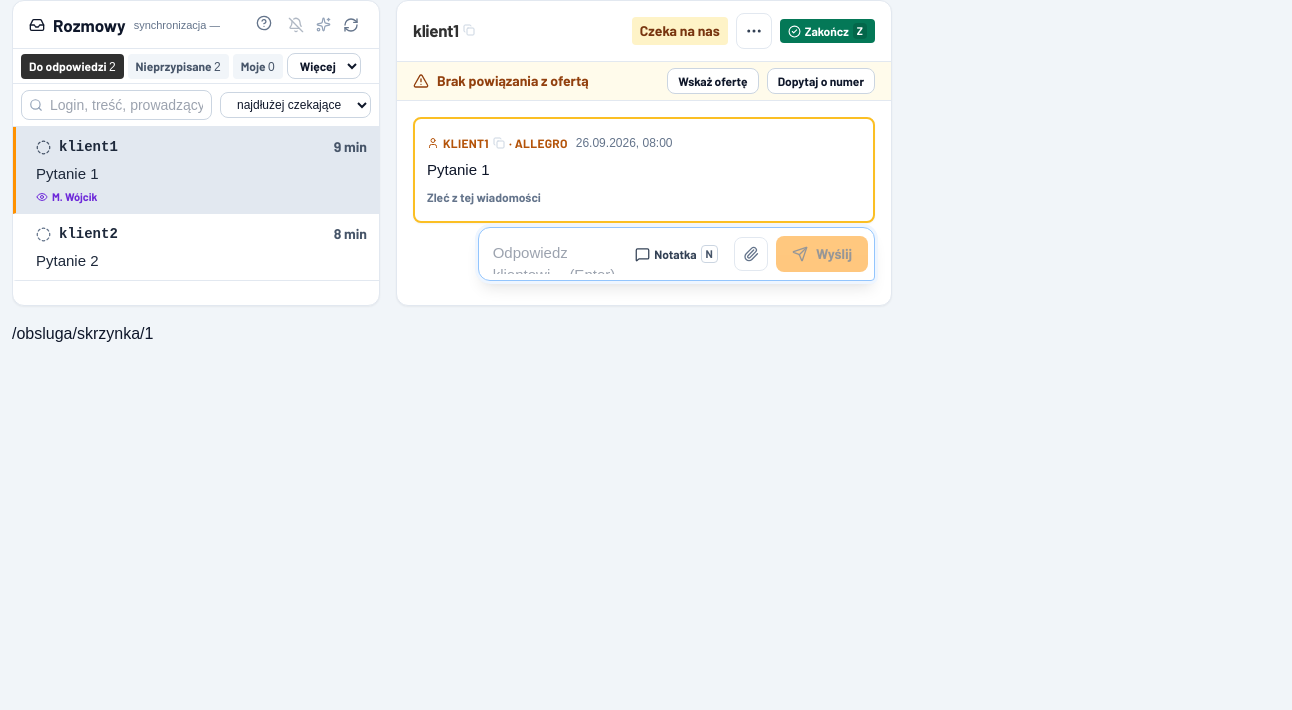
it: EKRAN SKRZYNKI: pętla pracy › „Poproś o przekazanie” pisze do notatki, nie do odpowiedzi klientowi
The image size is (1292, 710).
In the text box named "Szkic odpowiedzi": (556, 254) [493, 234, 619, 274], type "Moja odpowiedź"
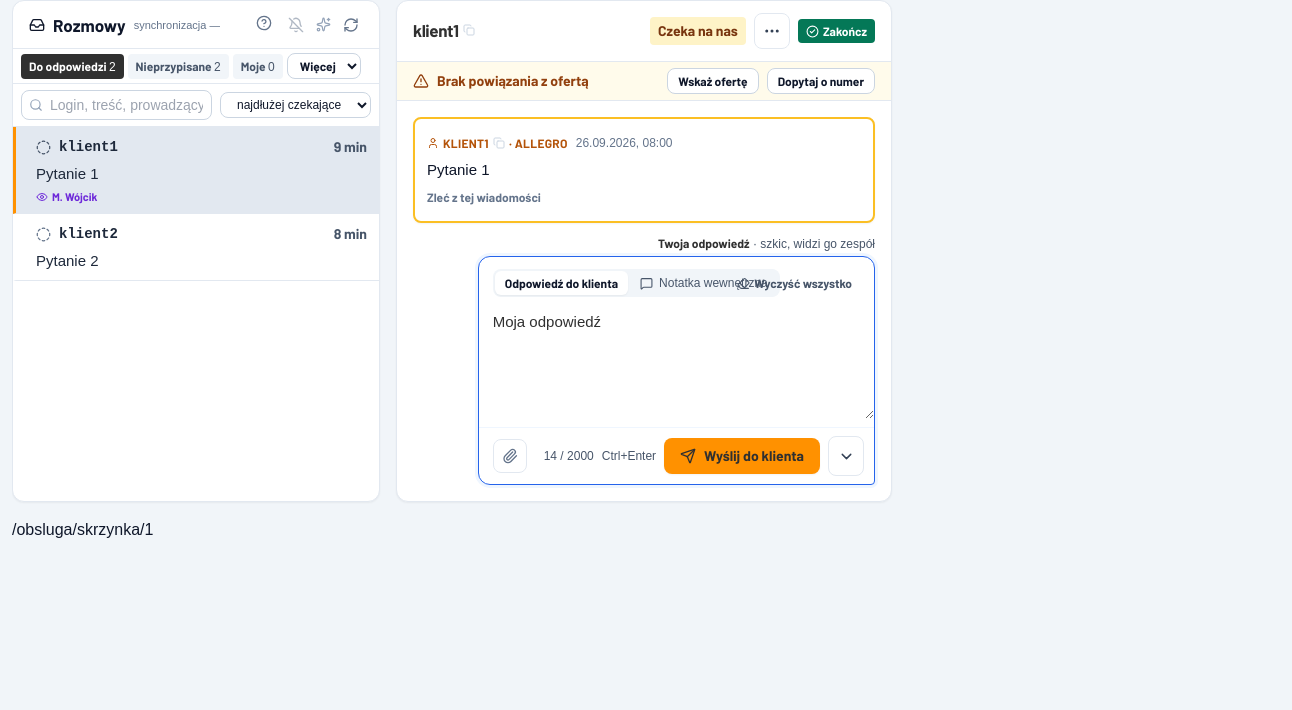
Click the button "Wyślij do klienta": (742, 456) [664, 438, 820, 474]
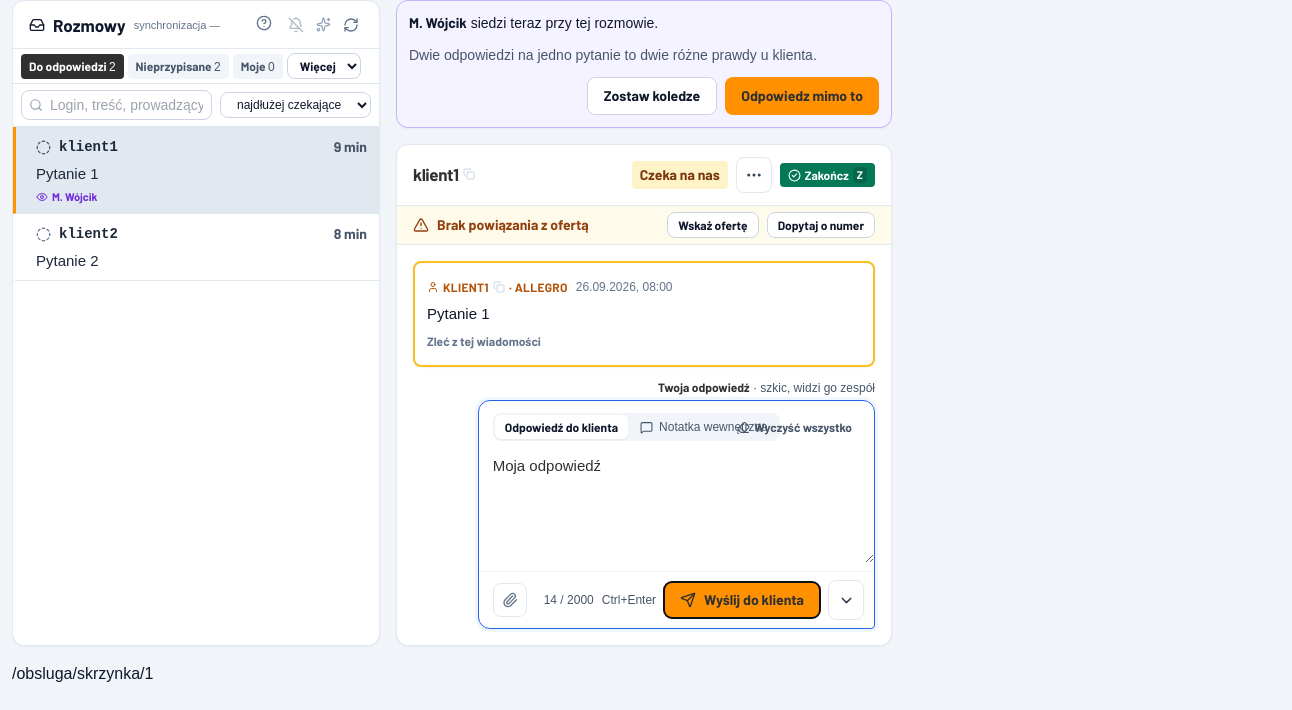
Click the button "Odpowiedz mimo to": (802, 96) [725, 77, 879, 115]
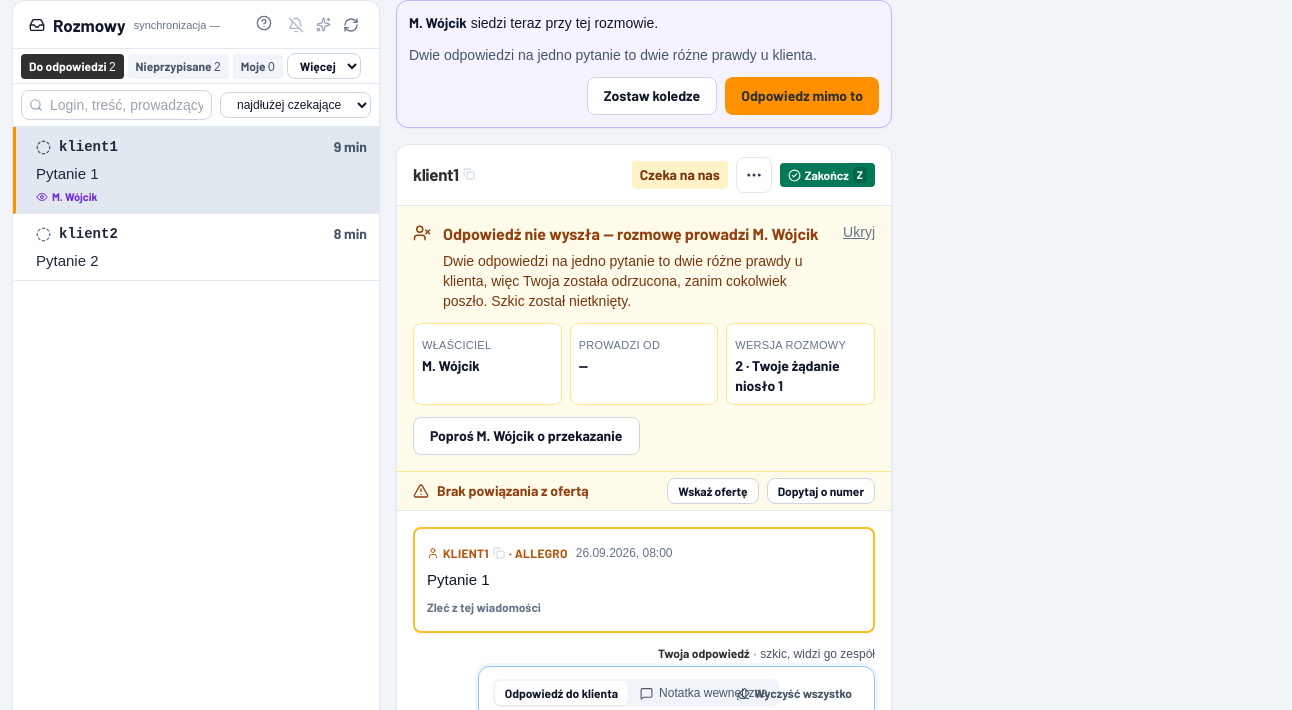
Click the button "Poproś M. Wójcik o przekazanie": (526, 436) [413, 417, 640, 455]
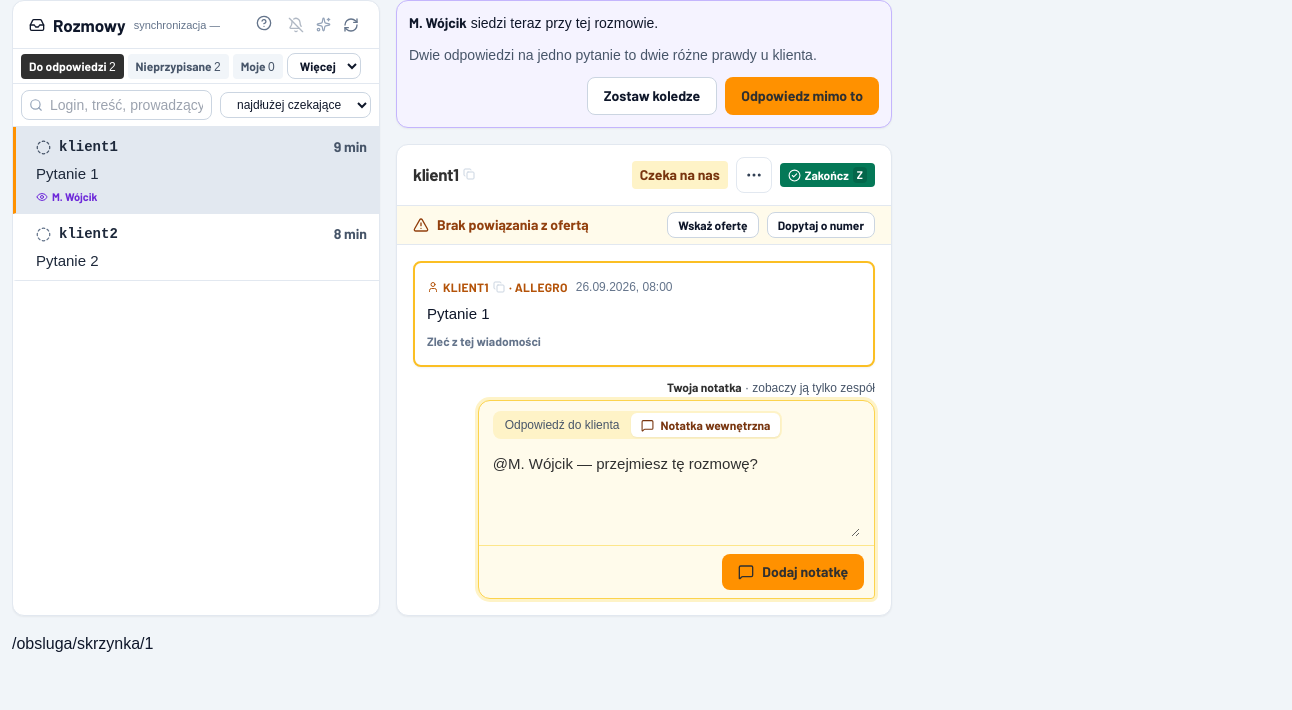
Check: the text box named "Notatka wewnętrzna" holds "@M. Wójcik — przejmiesz tę rozmowę?", box [493, 449, 860, 537]
Click the button "Odpowiedź do klienta": (562, 425) [495, 413, 630, 437]
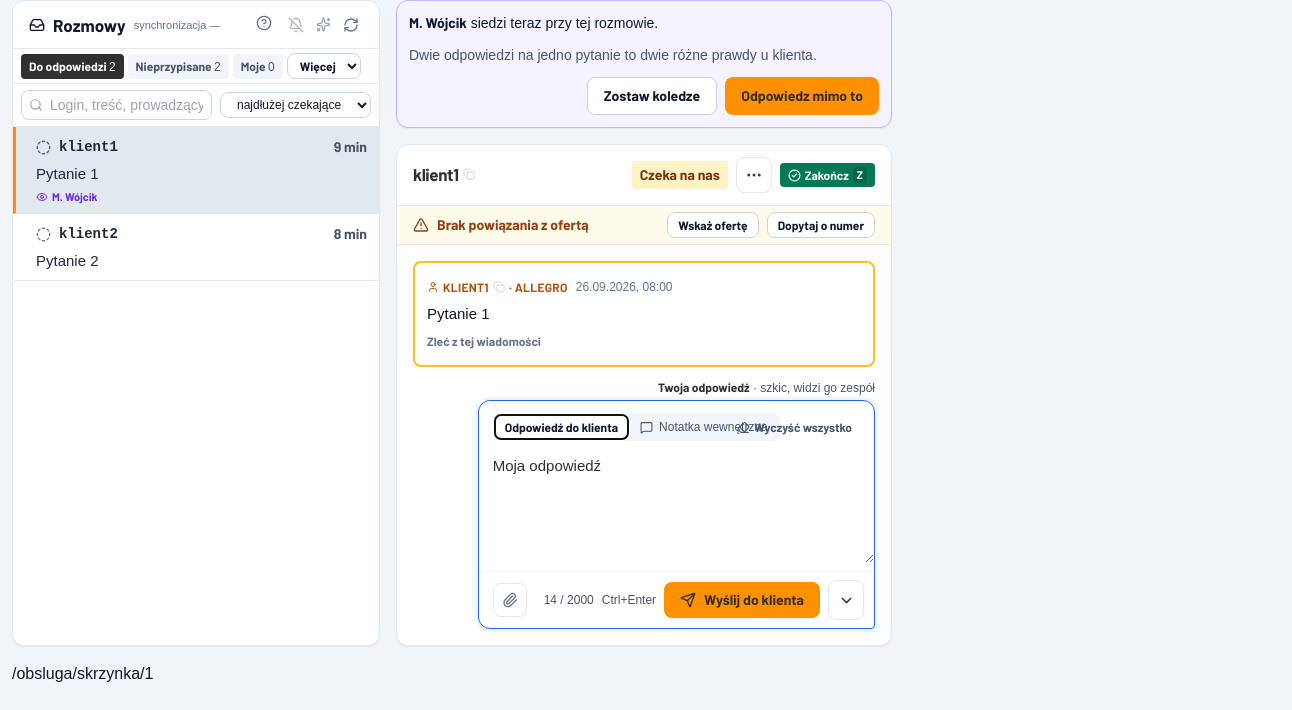
Check: the text box named "Szkic odpowiedzi" holds "Moja odpowiedź", box [479, 443, 874, 563]
